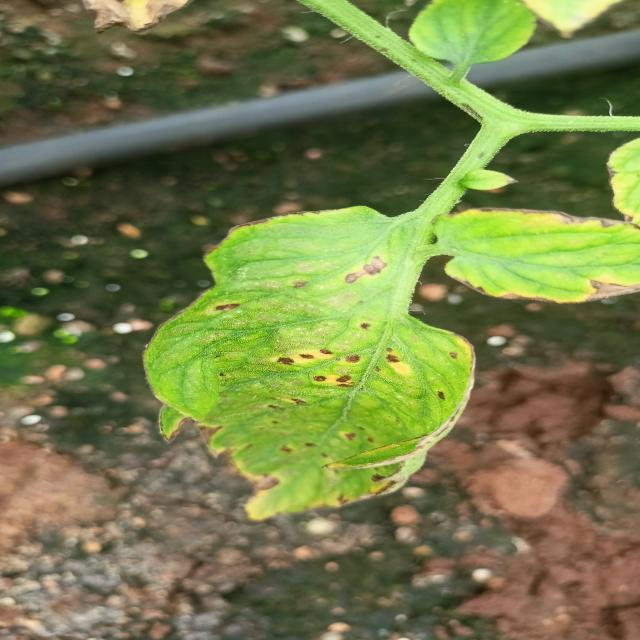Tomato mosaic virus leaf: (142, 204, 476, 529), (432, 204, 640, 308)
